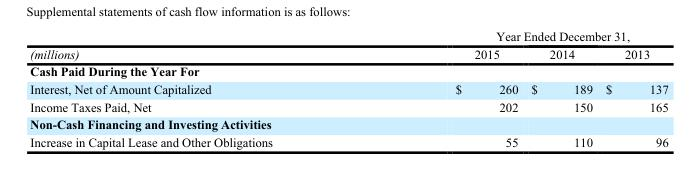table: (29, 28, 667, 148)
table column: (29, 28, 363, 148), (363, 28, 524, 148), (524, 28, 598, 148), (598, 28, 667, 148)
table column header: (29, 28, 667, 62)
table projected row header: (29, 62, 667, 79), (29, 115, 667, 132)
table row: (29, 44, 667, 62), (29, 79, 667, 97), (29, 97, 667, 115), (29, 62, 667, 79), (29, 115, 667, 132), (29, 28, 667, 44), (29, 132, 667, 148)
table spanning cell: (29, 28, 363, 62), (363, 28, 667, 44)
